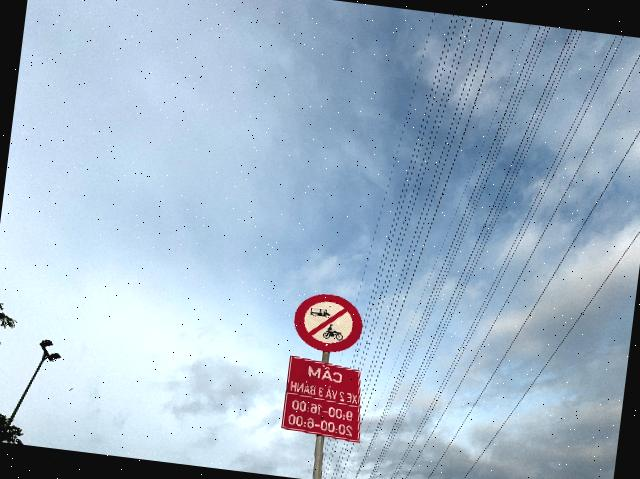cam-xe-2-banh-3-banh: (289, 289, 366, 356)
